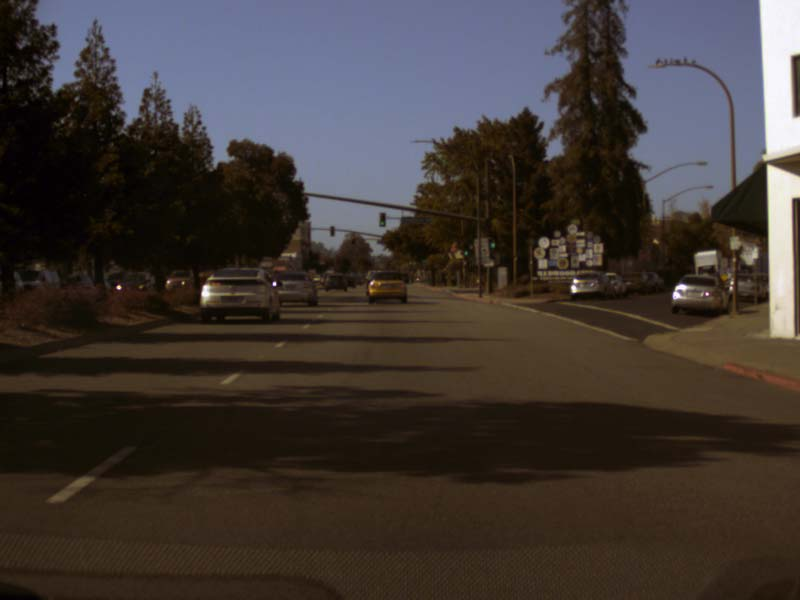Green: (488, 231, 496, 251), (462, 240, 469, 257), (379, 211, 385, 227)
Red: (351, 236, 355, 244)
